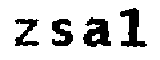1: (117, 7, 151, 53)
a: (83, 14, 113, 52)
s: (48, 19, 77, 52)
z: (11, 17, 44, 49)
